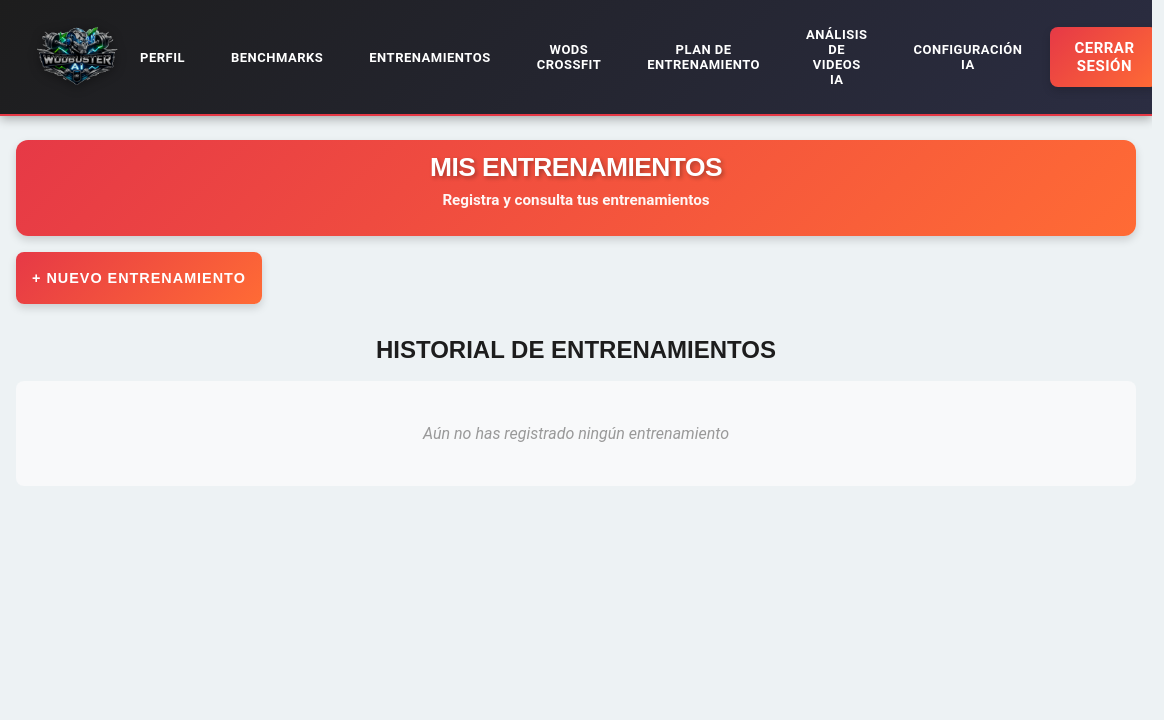
Scenario: Entrenamientos (componente) › muestra error si se intenta registrar sin completar campos
Click the button "+ Nuevo Entrenamiento".
click(139, 278)  # box left=16, top=252, right=262, bottom=304
(page scrolled)
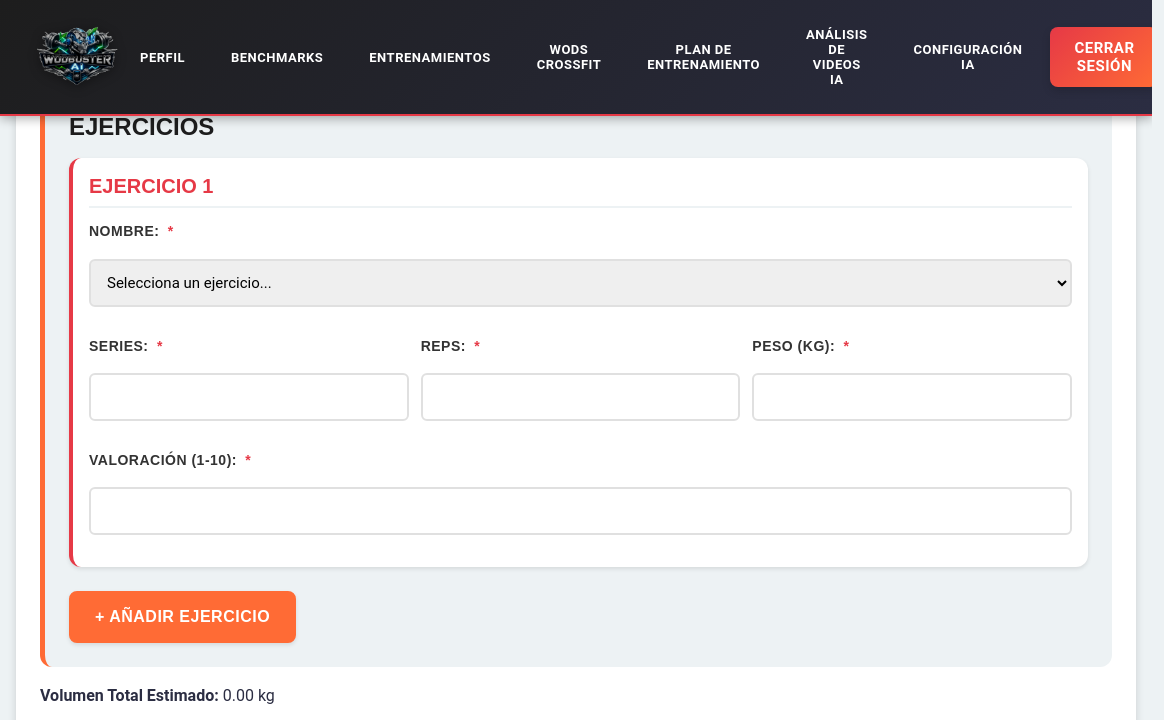
Note: Buscar el formulario por className
Submit the form with class "entrenamiento-form"
(page scrolled)
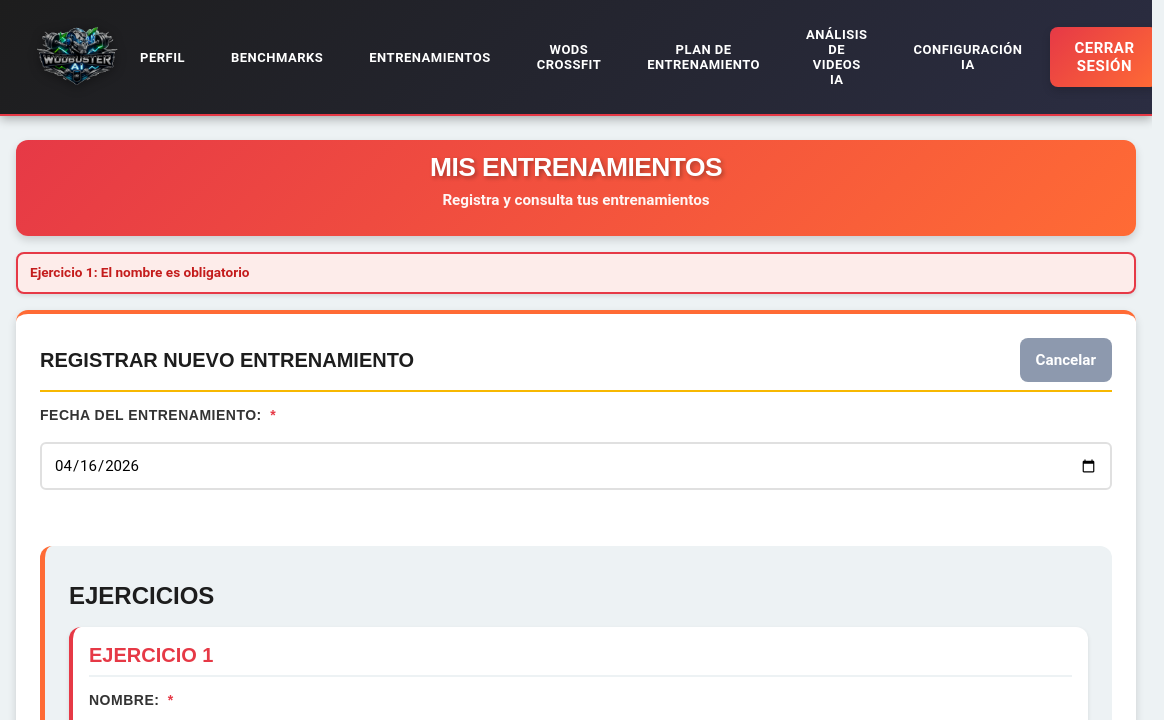
Result: the text "Ejercicio 1: El nombre es obligatorio" is shown at left=16, top=252, right=1136, bottom=294
